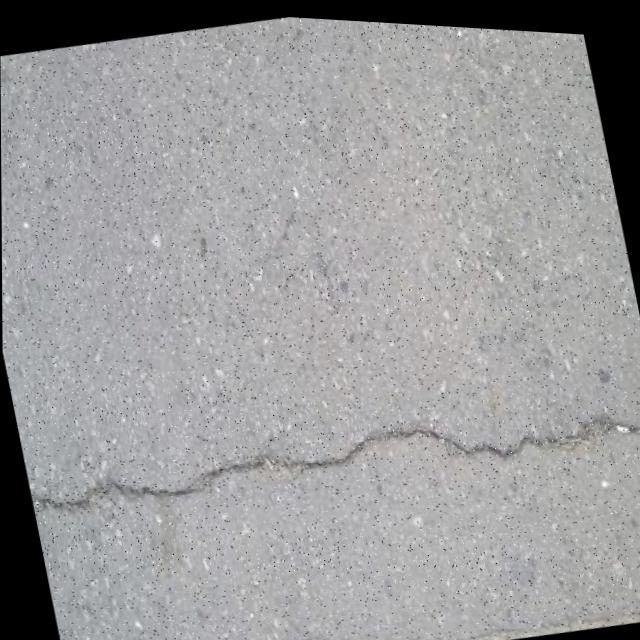Crack: (23, 339, 640, 565)
